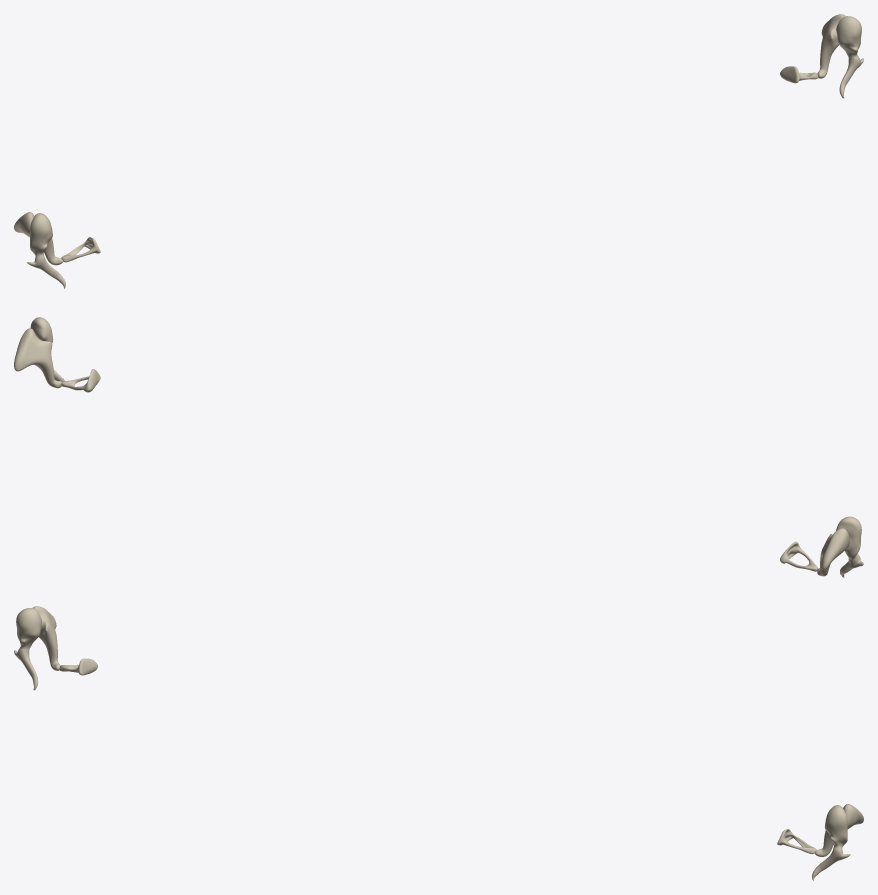
Rendered from ossicles-trial.glb.
3 renders of one model, top to bottom at view 1: azimuth 30°, elevation 25°; view 2: azimuth 150°, elevation 25°; view 3: azimuth 330°, elevation 25°, orthographic.
Visible parts, largest first — view 1: bone_malleus_L, bone_malleus_R, bone_incus_L, bone_incus_R; view 2: bone_incus_L, bone_malleus_R, bone_incus_R; view 3: bone_malleus_R, bone_malleus_L, bone_incus_R, bone_incus_L.
Part boxes in pixels (left/top/right/bottom): bone_malleus_L: left=836, top=16, right=863, bottom=98; bone_malleus_R: left=27, top=213, right=65, bottom=288; bone_incus_L: left=817, top=14, right=845, bottom=78; bone_incus_R: left=14, top=212, right=62, bottom=265; bone_incus_L: left=14, top=328, right=61, bottom=388; bone_malleus_R: left=836, top=516, right=863, bottom=577; bone_incus_R: left=817, top=528, right=849, bottom=576; bone_malleus_R: left=14, top=608, right=41, bottom=690; bone_malleus_L: left=812, top=805, right=850, bottom=880; bone_incus_R: left=32, top=606, right=60, bottom=670; bone_incus_L: left=815, top=804, right=863, bottom=856.
Size of the model in its own units: 0.1005 by 0.00824 by 0.00737.
